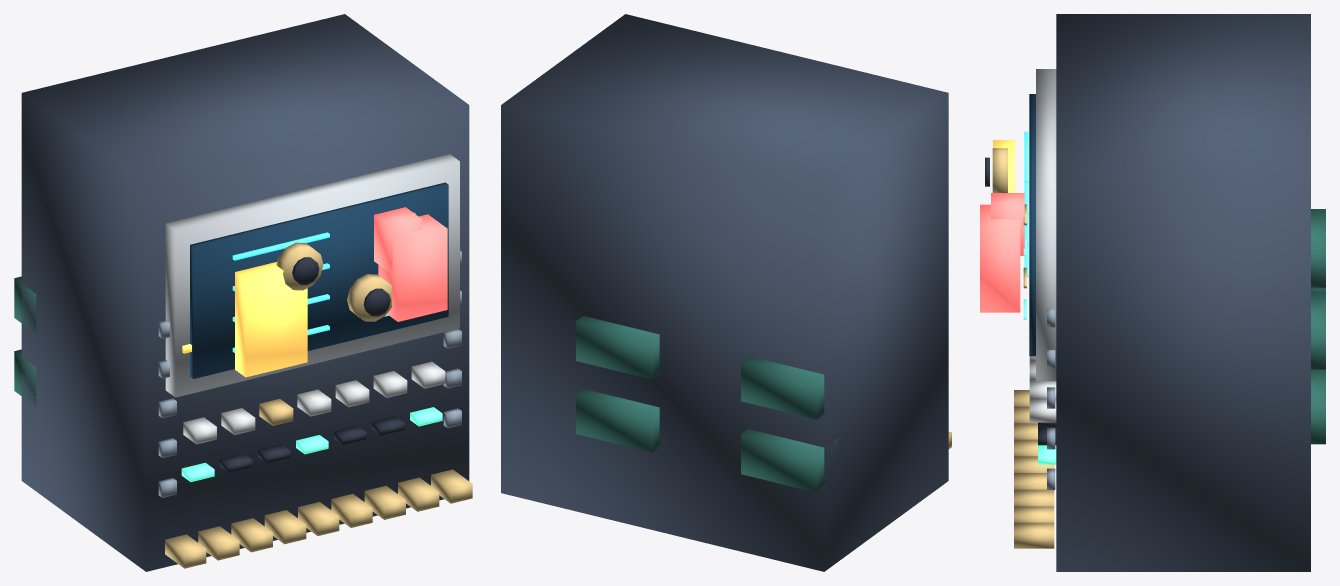
File: 82_L91_DetectorHighBackgroundFaultInjector.fbx
3 views of the same model, side by side, from view 1: azimuth 30°, elevation 25°; view 2: azimuth 150°, elevation 25°; view 3: azimuth 270°, elevation 25° (orthographic). The views are drawn at different scales.
Parts seen in each view (by area): view 1: L91_DetectorHighBackgroundFau_Part_0000, L91_DetectorHighBackgroundFau_Part_0002, L91_DetectorHighBackgroundFau_Part_0001, L91_DetectorHighBackgroundFau_Part_0004, L91_DetectorHighBackgroundFau_Part_0014, L91_DetectorHighBackgroundFau_Part_0013, L91_DetectorHighBackgroundFau_Part_0006, L91_DetectorHighBackgroundFau_Part_0008, L91_DetectorHighBackgroundFau_Part_0007, L91_DetectorHighBackgroundFau_Part_0010, L91_DetectorHighBackgroundFau_Part_0009, L91_DetectorHighBackgroundFau_Part_0005 (+5 smaller); view 2: L91_DetectorHighBackgroundFau_Part_0000, L91_DetectorHighBackgroundFau_Part_0010; view 3: L91_DetectorHighBackgroundFau_Part_0000, L91_DetectorHighBackgroundFau_Part_0001, L91_DetectorHighBackgroundFau_Part_0004, L91_DetectorHighBackgroundFau_Part_0013, L91_DetectorHighBackgroundFau_Part_0010, L91_DetectorHighBackgroundFau_Part_0002, L91_DetectorHighBackgroundFau_Part_0006, L91_DetectorHighBackgroundFau_Part_0009, L91_DetectorHighBackgroundFau_Part_0008, L91_DetectorHighBackgroundFau_Part_0015, L91_DetectorHighBackgroundFau_Part_0003, L91_DetectorHighBackgroundFau_Part_0014 (+1 smaller).
Boxes of the visible parts, left/top/right/bottom form: L91_DetectorHighBackgroundFau_Part_0000: left=21, top=14, right=469, bottom=571; L91_DetectorHighBackgroundFau_Part_0002: left=190, top=182, right=448, bottom=378; L91_DetectorHighBackgroundFau_Part_0001: left=165, top=154, right=459, bottom=397; L91_DetectorHighBackgroundFau_Part_0004: left=165, top=212, right=472, bottom=568; L91_DetectorHighBackgroundFau_Part_0014: left=235, top=262, right=307, bottom=377; L91_DetectorHighBackgroundFau_Part_0013: left=378, top=214, right=447, bottom=321; L91_DetectorHighBackgroundFau_Part_0006: left=183, top=361, right=445, bottom=444; L91_DetectorHighBackgroundFau_Part_0008: left=158, top=250, right=461, bottom=497; L91_DetectorHighBackgroundFau_Part_0007: left=219, top=416, right=404, bottom=472; L91_DetectorHighBackgroundFau_Part_0010: left=14, top=276, right=36, bottom=406; L91_DetectorHighBackgroundFau_Part_0009: left=374, top=207, right=422, bottom=273; L91_DetectorHighBackgroundFau_Part_0005: left=181, top=314, right=442, bottom=481; L91_DetectorHighBackgroundFau_Part_0000: left=501, top=14, right=948, bottom=571; L91_DetectorHighBackgroundFau_Part_0010: left=576, top=316, right=838, bottom=492; L91_DetectorHighBackgroundFau_Part_0000: left=1056, top=14, right=1310, bottom=571; L91_DetectorHighBackgroundFau_Part_0001: left=1036, top=69, right=1056, bottom=381; L91_DetectorHighBackgroundFau_Part_0004: left=1014, top=204, right=1054, bottom=548; L91_DetectorHighBackgroundFau_Part_0013: left=980, top=204, right=1020, bottom=312; L91_DetectorHighBackgroundFau_Part_0010: left=1311, top=209, right=1325, bottom=444; L91_DetectorHighBackgroundFau_Part_0002: left=1029, top=94, right=1035, bottom=356; L91_DetectorHighBackgroundFau_Part_0006: left=1029, top=356, right=1056, bottom=422; L91_DetectorHighBackgroundFau_Part_0009: left=991, top=193, right=1024, bottom=255; L91_DetectorHighBackgroundFau_Part_0008: left=1047, top=309, right=1055, bottom=489; L91_DetectorHighBackgroundFau_Part_0015: left=992, top=148, right=1007, bottom=192; L91_DetectorHighBackgroundFau_Part_0003: left=1024, top=131, right=1028, bottom=277; L91_DetectorHighBackgroundFau_Part_0014: left=993, top=140, right=1014, bottom=192.
Bounding box in the file's own units: 1.04 × 1.19 × 0.9426.
